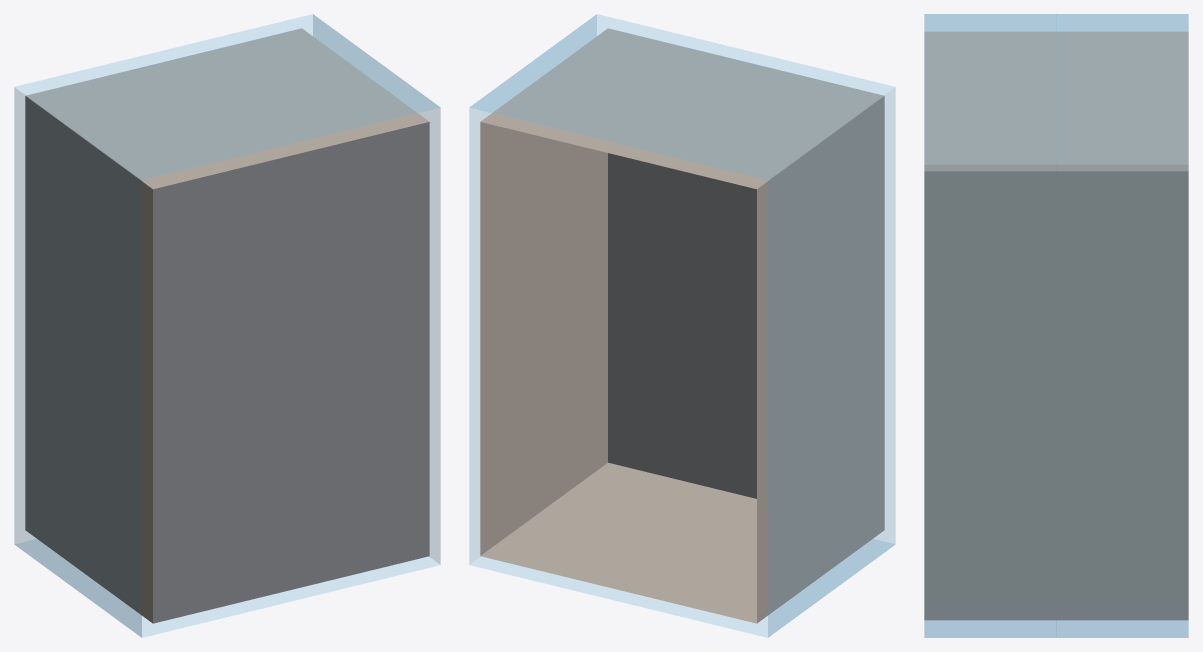
3 renders of one model, left to right at view 1: azimuth 30°, elevation 25°; view 2: azimuth 150°, elevation 25°; view 3: azimuth 270°, elevation 25°, orthographic. The views are drawn at different scales.
Parts seen in each view (by area): view 1: Atap_Beton, Kaca_Jendela, Dinding_Bata; view 2: Dinding_Bata, Kaca_Jendela, Atap_Beton; view 3: Kaca_Jendela, Dinding_Bata.
Boxes of the visible parts, x1,y1,x2,y2 form: Atap_Beton: [153, 122, 429, 623]; Kaca_Jendela: [14, 14, 440, 637]; Dinding_Bata: [25, 28, 429, 623]; Dinding_Bata: [480, 28, 884, 623]; Kaca_Jendela: [469, 14, 895, 637]; Atap_Beton: [608, 153, 756, 498]; Kaca_Jendela: [924, 14, 1188, 637]; Dinding_Bata: [924, 31, 1188, 620].
Size of the model in its own units: 21.6 by 31.6 by 16.
